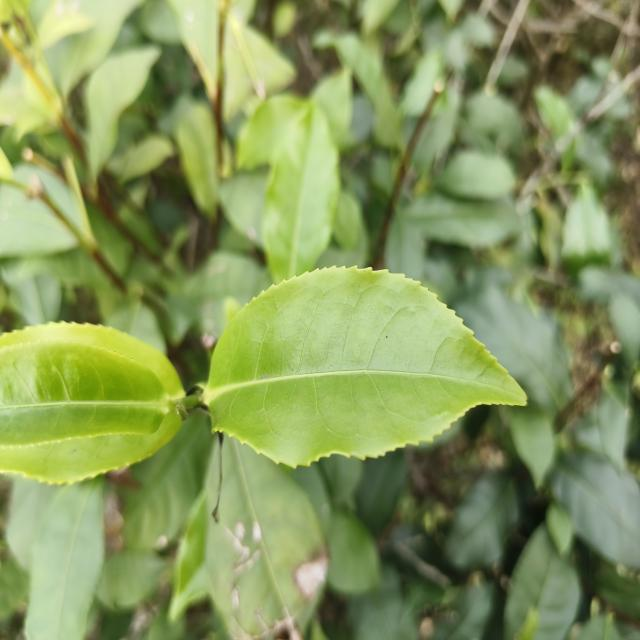Leaf: (203, 266, 526, 466), (205, 437, 328, 640), (0, 338, 171, 446), (456, 285, 571, 413), (263, 107, 339, 283), (25, 481, 104, 640), (123, 412, 213, 550), (551, 452, 640, 568), (314, 30, 402, 147), (85, 46, 160, 177), (504, 524, 581, 640), (181, 251, 272, 339), (446, 472, 519, 568), (401, 193, 521, 247), (0, 183, 78, 257), (236, 95, 311, 169), (169, 489, 211, 621), (175, 100, 218, 217), (325, 509, 380, 594), (561, 183, 611, 271), (14, 164, 81, 225), (98, 550, 167, 609), (437, 151, 515, 200), (508, 407, 554, 488)
